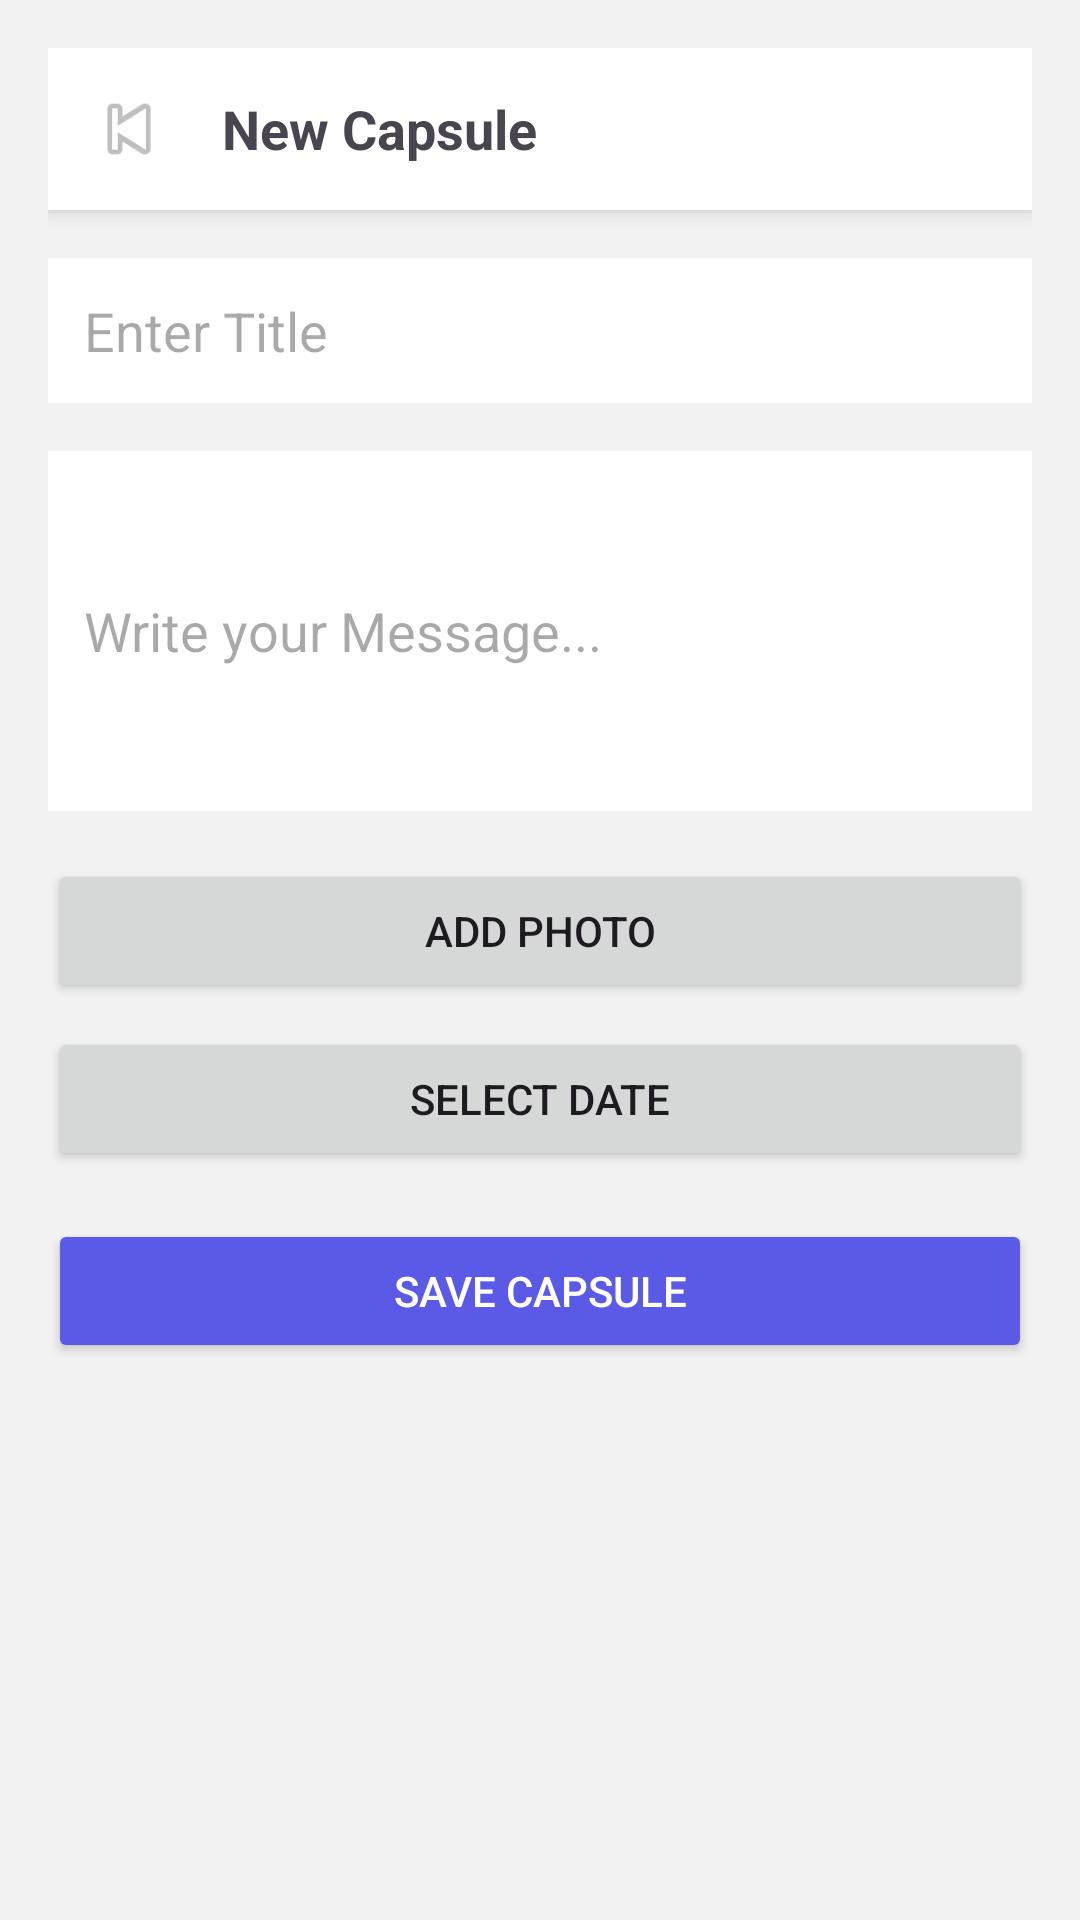

Icon click points for this 1080×1920 phone screenshot, format (x,y):
previous: (129,129)
